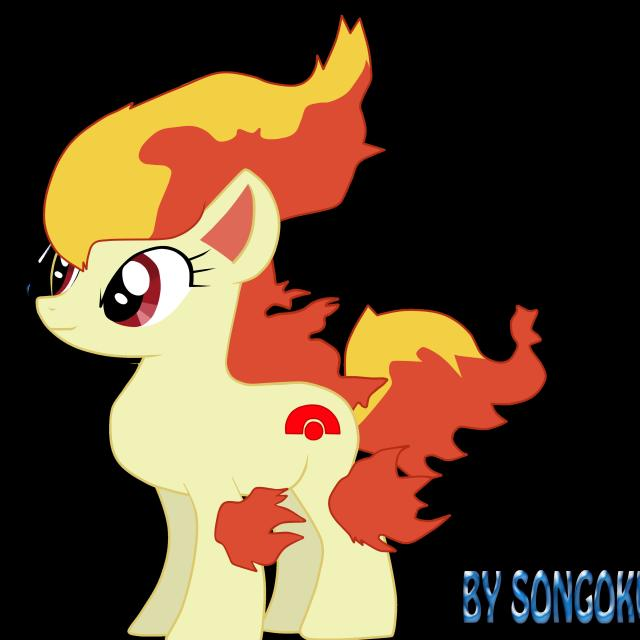Ponyta: (45, 160, 440, 590)
